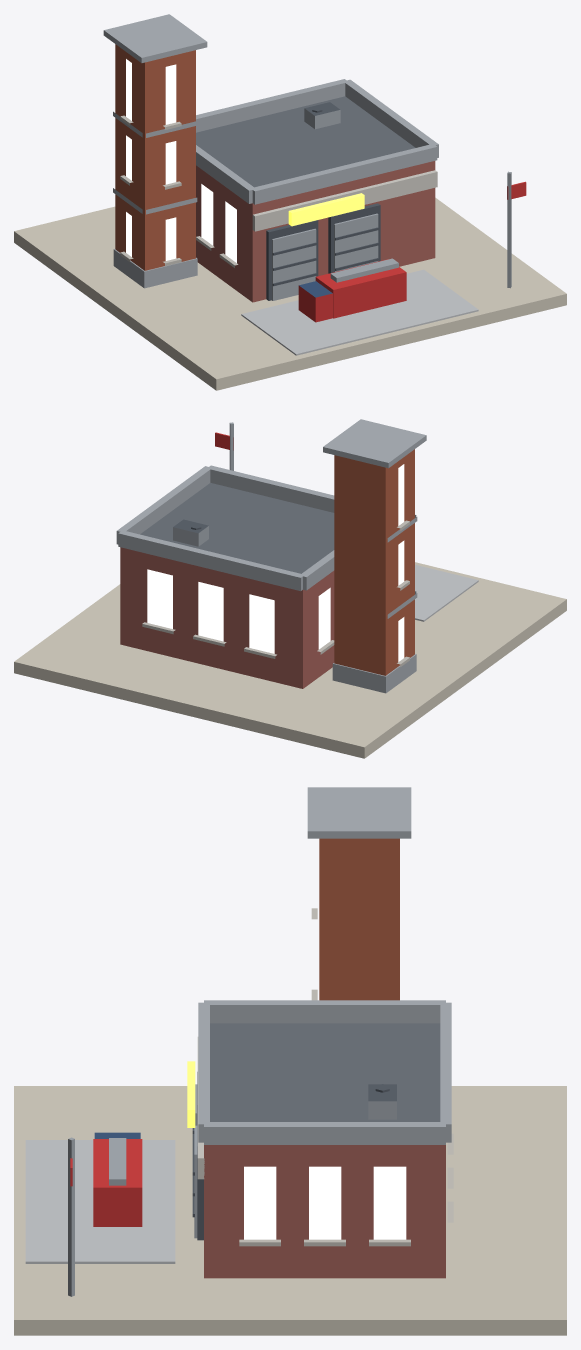
3 views of the same model, one above another, from view 1: azimuth 30°, elevation 25°; view 2: azimuth 150°, elevation 25°; view 3: azimuth 270°, elevation 25° (orthographic). The views are drawn at different scales.
Parts seen in each view (by area): view 1: b84_x1; view 2: b84_x1; view 3: b84_x1.
Part boxes in pixels (x1=…): b84_x1: x1=14, y1=14, x2=566, y2=390; b84_x1: x1=14, y1=419, x2=566, y2=758; b84_x1: x1=14, y1=787, x2=566, y2=1335.
Size of the model in its own units: 0.96 by 0.644 by 0.96.
